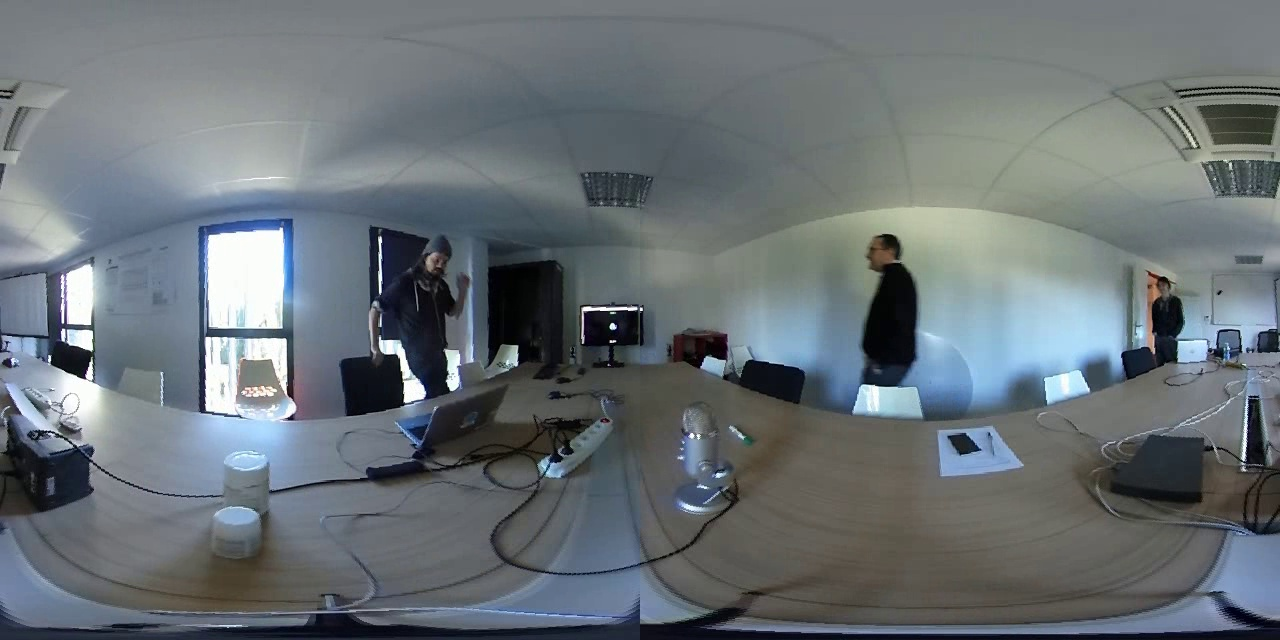person: (358, 225, 483, 382), (844, 227, 925, 374), (1143, 273, 1195, 340)
